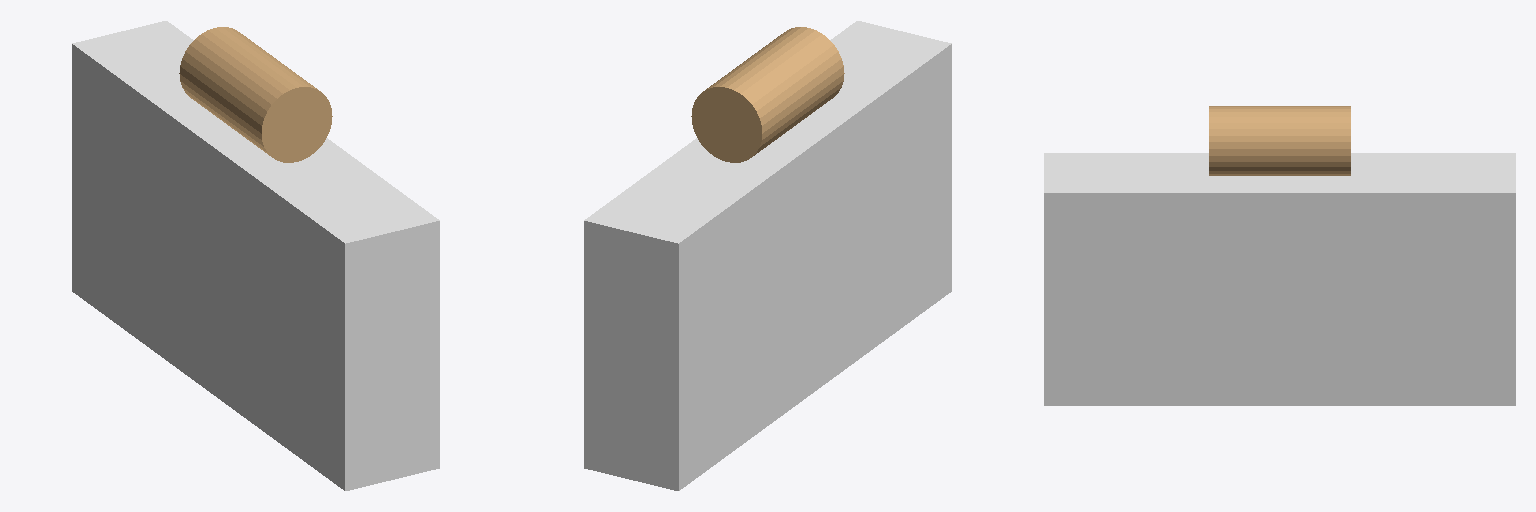
robot.urdf — patient_scene:
<?xml version="1.0"?>
<!--
  patient_scene.urdf
  ==================
  Scène statique simulant un patient allongé sur une table d'examen,
  positionné devant le robot FR3.

  Géométrie (frame world) :
    Table patient : 0.4 m × 2.0 m × 1.1 m (h)
                    posée au sol, centrée à x=0.6, y=0.0
    Corps patient : cylindre Ø0.3 m (torse)
                    à x=0.6, y=0.0, z=1.25 m (sur la table)
    Tête          : sphère Ø0.2 m
                    à x=0.6, y=-0.7, z=1.25 m  (extrémité du lit)

  Ce fichier est spawné comme entité indépendante dans Gazebo —
  il n'est pas lié au URDF du robot et n'affecte pas les controllers.

  Pour modifier la position du patient par rapport au robot, ajuster
  les <origin> des joints world_to_patient_table et suivants.
-->
<robot name="patient_scene">

  <!-- Lien monde (nécessaire pour ancrer la scène) -->
  <link name="world"/>

  <!-- =====================
       TABLE D'EXAMEN
  ===================== -->
  <link name="patient_table">
    <visual>
      <origin xyz="0 0 0.50"/>
      <geometry>
        <box size="0.4 2.0 1.0"/>
      </geometry>
      <material name="white">
        <color rgba="0.95 0.95 0.95 1.0"/>
      </material>
    </visual>
    <collision>
      <origin xyz="0 0 0.50"/>
      <geometry>
        <box size="0.4 2.0 1.0"/>
      </geometry>
    </collision>
    <inertial>
      <mass value="50.0"/>
      <inertia ixx="0.001" iyy="0.001" izz="0.001"
               ixy="0" ixz="0" iyz="0"/>
    </inertial>
  </link>

  <joint name="world_to_patient_table" type="fixed">
    <!-- x=0.6 : 60 cm devant le robot
         y=0.0 : centré sur le rail
         z=0.0 : posé au sol -->
    <origin xyz="0.6 0.0 0.0" rpy="0 0 0"/>
    <parent link="world"/>
    <child  link="patient_table"/>
  </joint>

  <!-- =====================
       TORSE DU PATIENT
  ===================== -->
  <link name="patient_torso">
    <visual>
      <origin xyz="0 0 0"/>
      <geometry>
        <!-- Cylindre horizontal : axe Y = longueur du corps -->
        <cylinder radius="0.15" length="0.6"/>
      </geometry>
      <material name="skin">
        <color rgba="0.87 0.72 0.53 1.0"/>
      </material>
    </visual>
    <collision>
      <origin xyz="0 0 0"/>
      <geometry>
        <cylinder radius="0.15" length="0.6"/>
      </geometry>
    </collision>
    <inertial>
      <mass value="30.0"/>
      <inertia ixx="0.001" iyy="0.001" izz="0.001"
               ixy="0" ixz="0" iyz="0"/>
    </inertial>
  </link>

  <joint name="table_to_torso" type="fixed">
    <!-- Posé sur la table (z=0.8 table + 0.15 rayon = 0.95) →
         en frame world : z = 0.95
         rpy π/2 0 0 : couché sur le dos, axe du cylindre le long de Y -->
    <origin xyz="0.0 0.0 1.15" rpy="1.5707963 0 0"/>
    <parent link="patient_table"/>
    <child  link="patient_torso"/>
  </joint>

  <!-- =====================
       TÊTE DU PATIENT
  ===================== -->
  <link name="patient_head">
    <visual>
      <origin xyz="0 0 0"/>
      <geometry>
        <sphere radius="0.10"/>
      </geometry>
      <material name="skin"/>
    </visual>
    <collision>
      <origin xyz="0 0 0"/>
      <geometry>
        <sphere radius="0.10"/>
      </geometry>
    </collision>
    <inertial>
      <mass value="5.0"/>
      <inertia ixx="0.001" iyy="0.001" izz="0.001"
               ixy="0" ixz="0" iyz="0"/>
    </inertial>
  </link>

  <joint name="torso_to_head" type="fixed">
    <!-- 0.4 m vers le bas du lit (y négatif = vers la tête) -->
    <origin xyz="0.0 -0.4 0.0" rpy="0 0 0"/>
    <parent link="patient_torso"/>
    <child  link="patient_head"/>
  </joint>

</robot>

--- What the picture shows (computed from the rendered views, not written in the file) ---
The picture shows the robot from 3 angles, left to right: view 1: azimuth 30°, elevation 25°; view 2: azimuth 150°, elevation 25°; view 3: azimuth 270°, elevation 25°; orthographic projection.
Model patient_scene with 4 links and 3 joints (3 fixed), rooted at world, posed all joints at 0.
Visible links, largest first — view 1: patient_table, patient_torso; view 2: patient_table, patient_torso; view 3: patient_table, patient_torso.
Boxes of the visible links, left/top/right/bottom form: patient_table: left=72, top=21, right=439, bottom=490; patient_torso: left=179, top=27, right=332, bottom=162; patient_table: left=584, top=21, right=951, bottom=490; patient_torso: left=691, top=27, right=844, bottom=162; patient_table: left=1044, top=153, right=1515, bottom=405; patient_torso: left=1209, top=106, right=1350, bottom=175.
Bounding box of the posed robot: 0.4 × 2 × 1.3 m (x, y, z).
Geometry: primitives only (box / cylinder / sphere), no mesh files.
